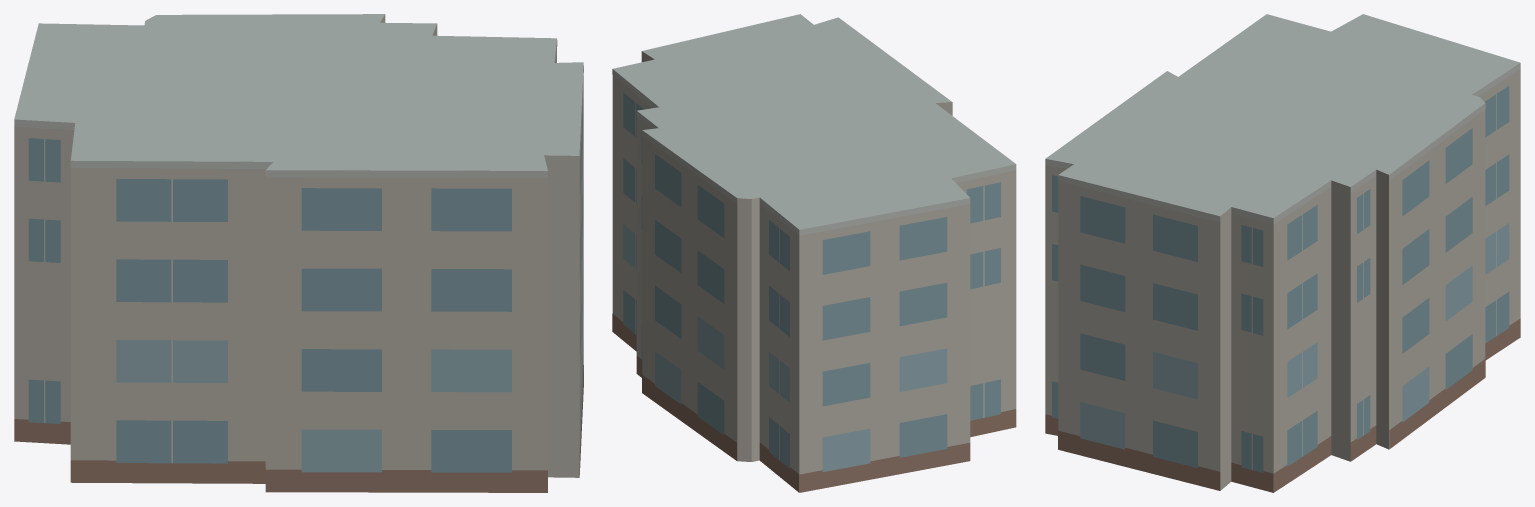
Rendered from survey-upis-32982084.glb.
3 views of the same model, side by side, from view 1: azimuth 30°, elevation 25°; view 2: azimuth 150°, elevation 25°; view 3: azimuth 270°, elevation 25° (orthographic). The views are drawn at different scales.
Parts seen in each view (by area): view 1: survey-upis-32982084.tmp; view 2: survey-upis-32982084.tmp; view 3: survey-upis-32982084.tmp.
Part boxes in pixels (x1,y1,x2,y2): survey-upis-32982084.tmp: [14, 14, 583, 492]; survey-upis-32982084.tmp: [612, 14, 1016, 492]; survey-upis-32982084.tmp: [1045, 14, 1520, 492].
Bounding box in the file's own units: 17.39 × 10.9 × 17.1.
